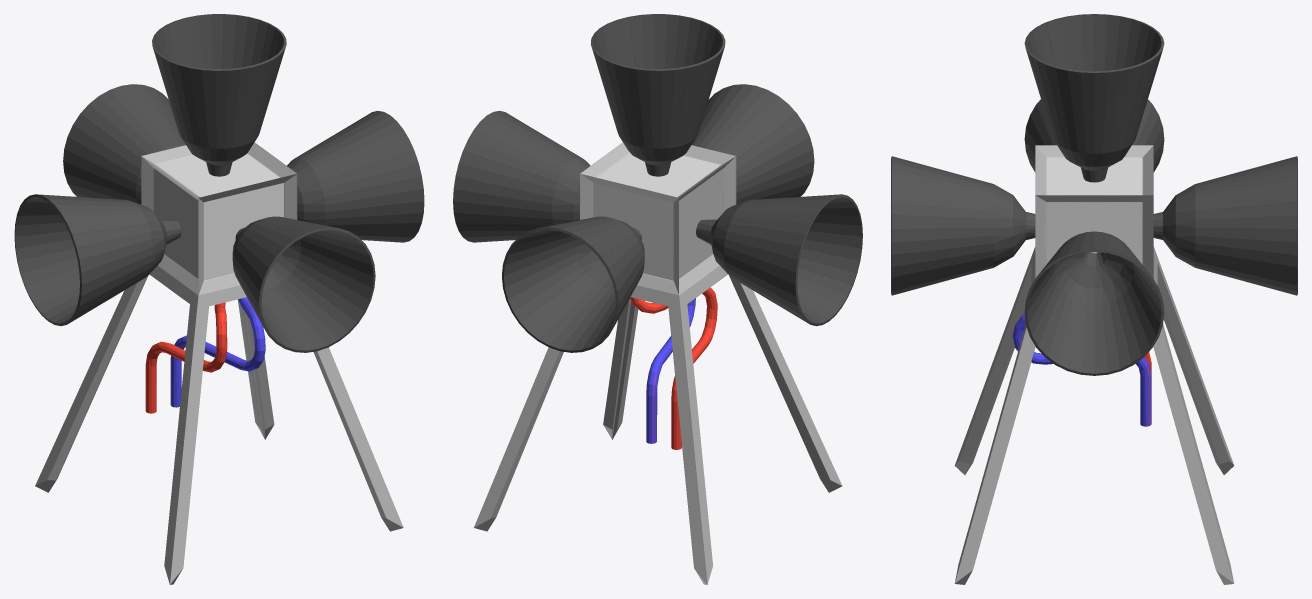
Rendered from RCS.fbx.
3 views of the same model, side by side, from view 1: azimuth 30°, elevation 25°; view 2: azimuth 150°, elevation 25°; view 3: azimuth 270°, elevation 25° (orthographic). The views are drawn at different scales.
Parts seen in each view (by area): view 1: RCS; view 2: RCS; view 3: RCS.
Part boxes in pixels (bbox=[...]): RCS: bbox=[14, 14, 424, 584]; RCS: bbox=[453, 14, 862, 584]; RCS: bbox=[891, 14, 1297, 584].
Size of the model in its own units: 0.7352 by 0.9614 by 0.7276.
